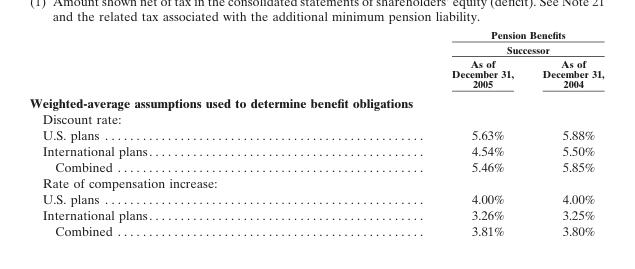table: (29, 28, 603, 238)
table column: (29, 28, 301, 238), (301, 28, 527, 238), (527, 28, 603, 238)
table column header: (29, 28, 603, 92)
table projected row header: (29, 92, 603, 110), (29, 110, 603, 126), (29, 174, 603, 190)
table row: (29, 56, 603, 92), (29, 28, 603, 56), (29, 92, 603, 110), (29, 110, 603, 126), (29, 126, 603, 142), (29, 142, 603, 158), (29, 158, 603, 174), (29, 174, 603, 190), (29, 190, 603, 206), (29, 206, 603, 222), (29, 222, 603, 238)
table spanning cell: (301, 28, 603, 56)
